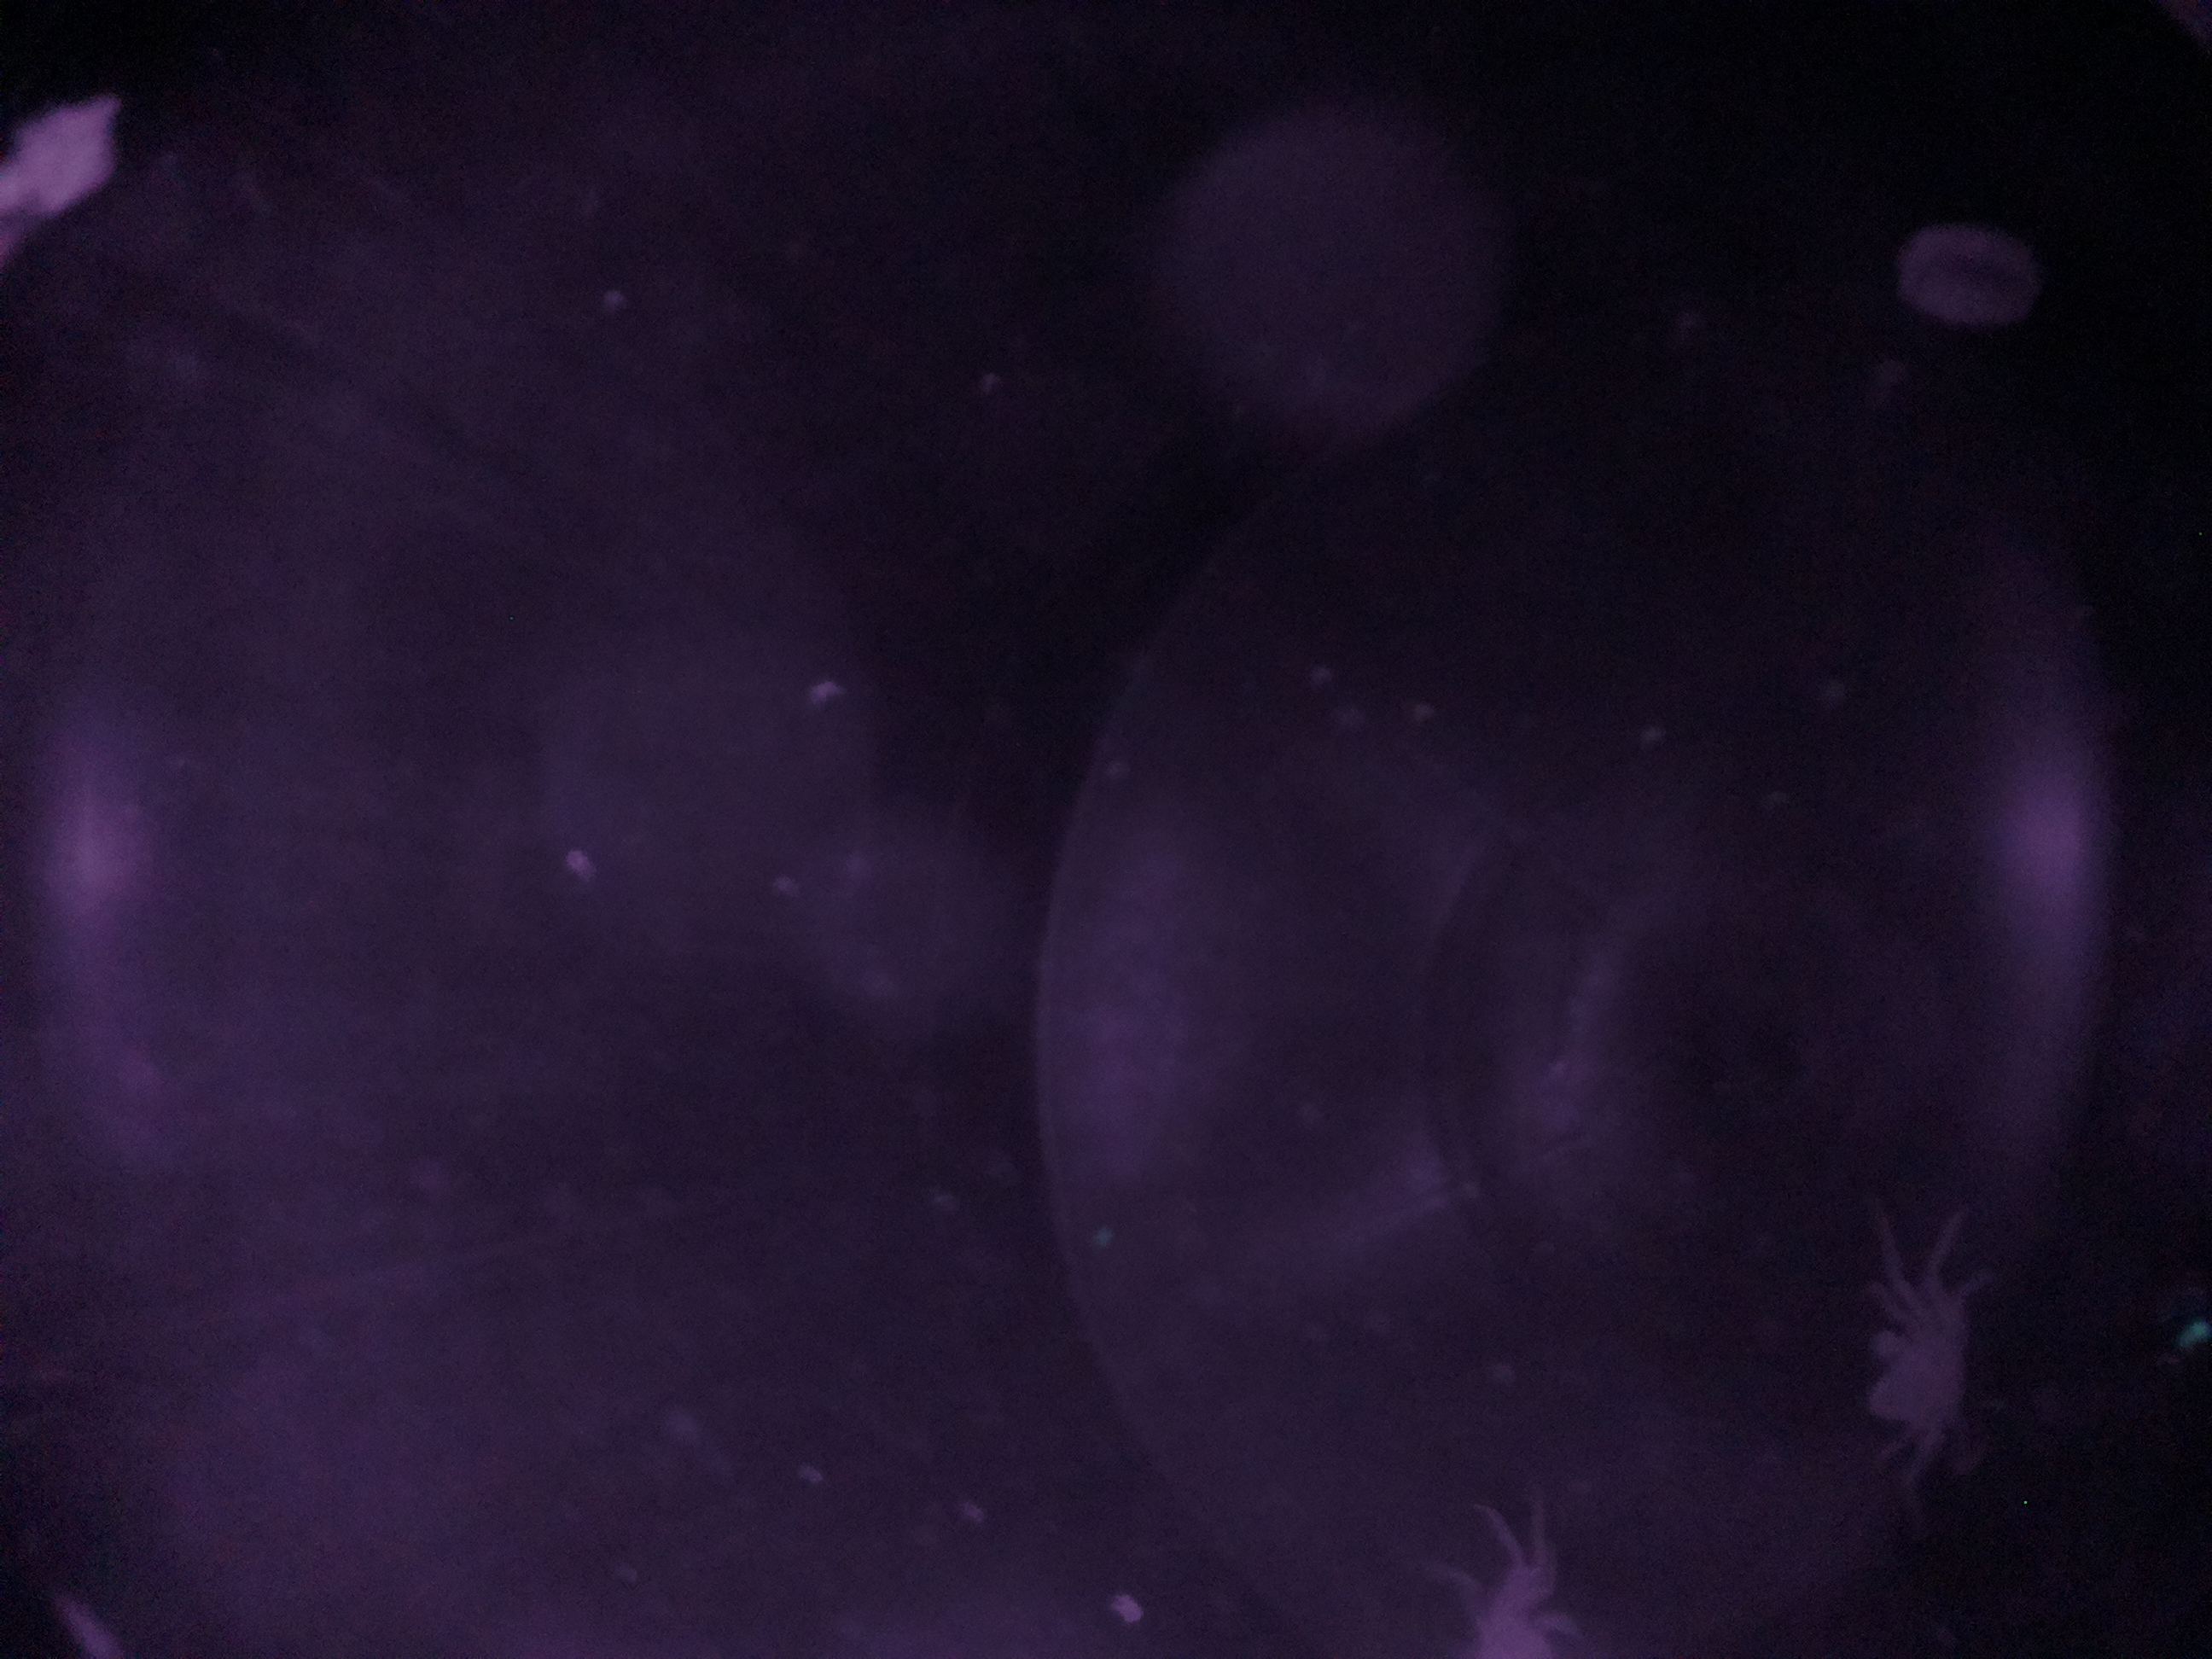Crab: (1850, 1262, 2003, 1466)
